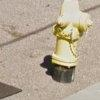Hydrant: (47, 1, 95, 84)
